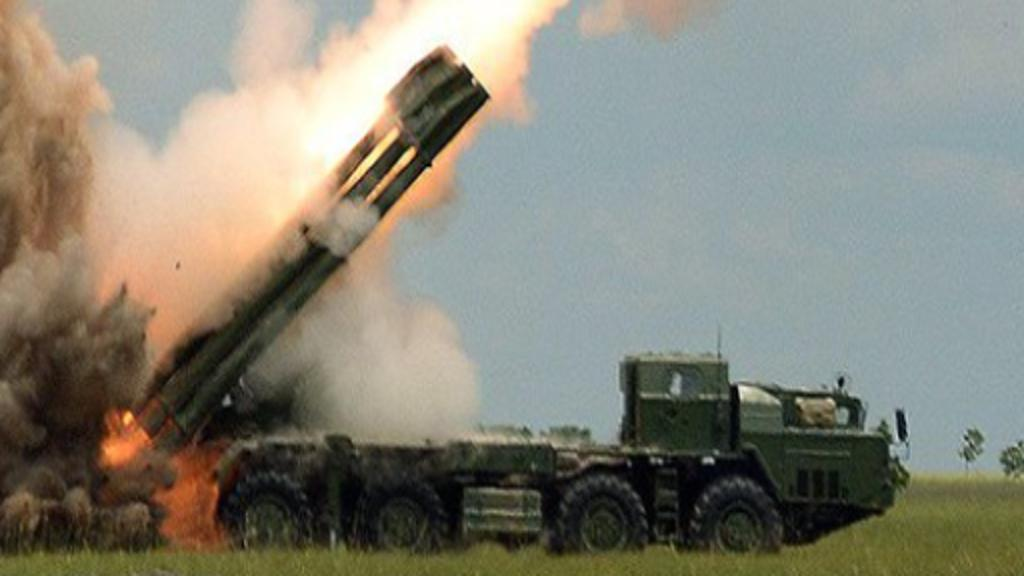MLRS: (100, 43, 908, 558)
